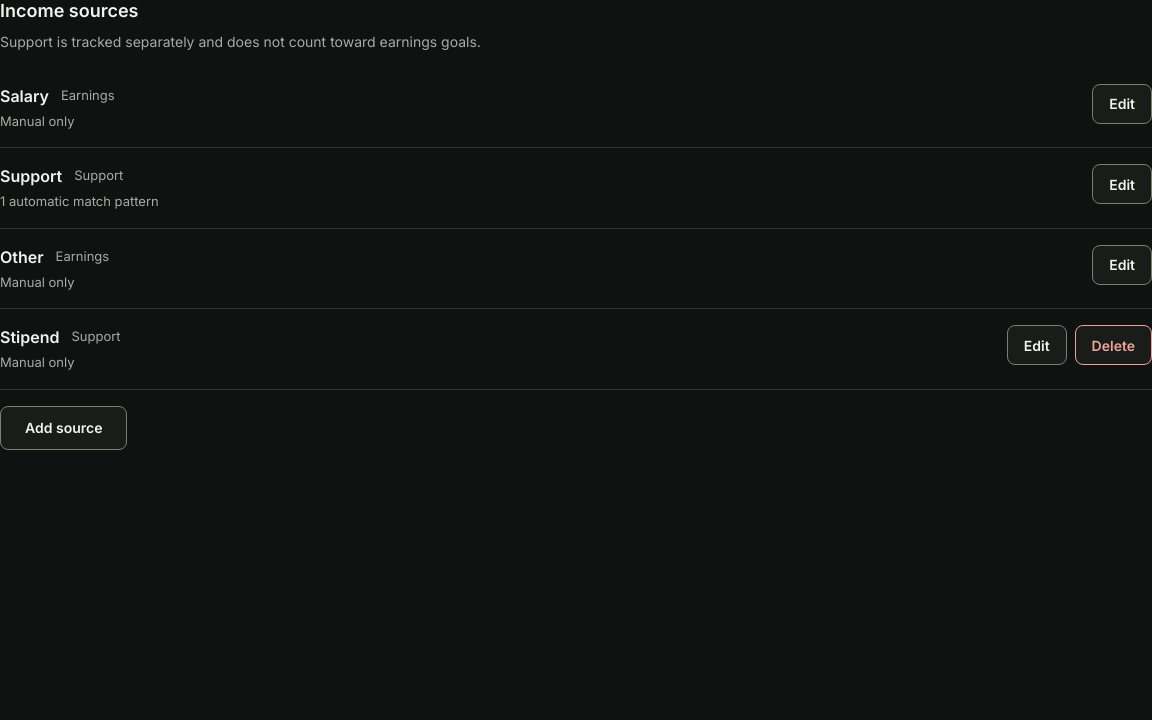
Test: IncomeSourcesBlock › keeps builtins editable but not deletable
expect the button "Add source" is shown: met, box x1=0 y1=406 x2=128 y2=450
expect the button with aria-label "Edit Support" is shown: met, box x1=1092 y1=164 x2=1151 y2=204
Click the button with aria-label "Edit Salary".
click(1122, 104)  # box x1=1092 y1=84 x2=1151 y2=124
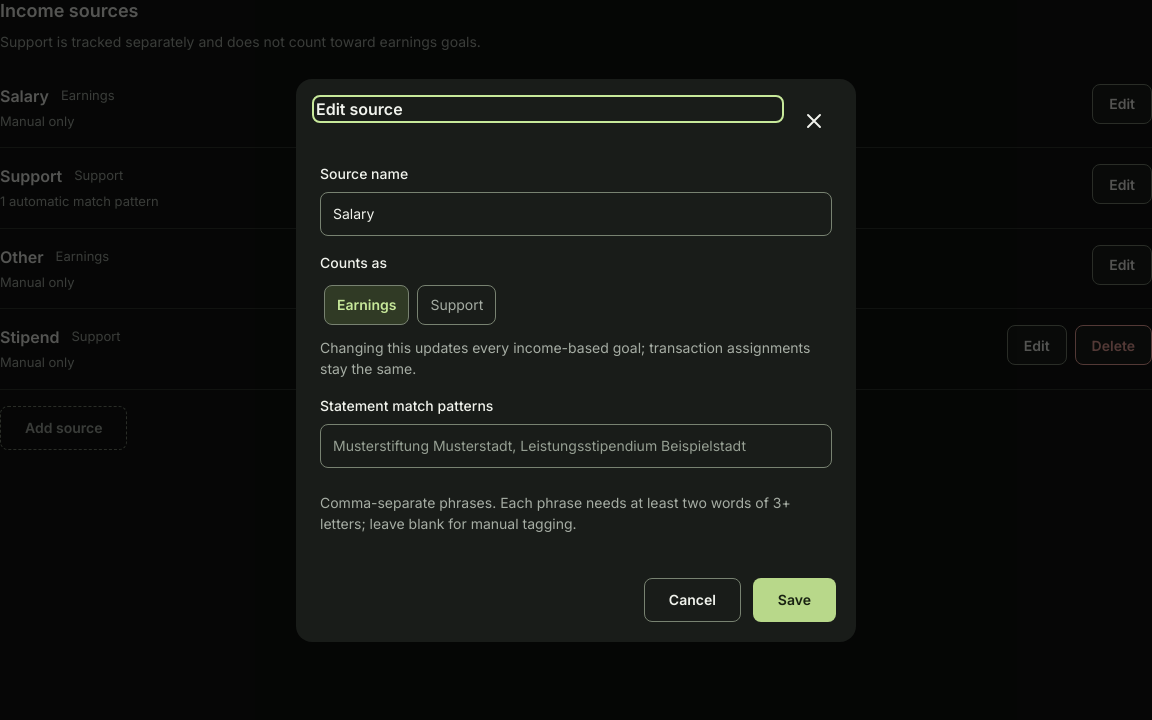
expect the dialog "Edit source" is shown: met, box x1=296 y1=78 x2=856 y2=642
expect the field labelled "Source name" holds "Salary": met, box x1=320 y1=192 x2=832 y2=236
